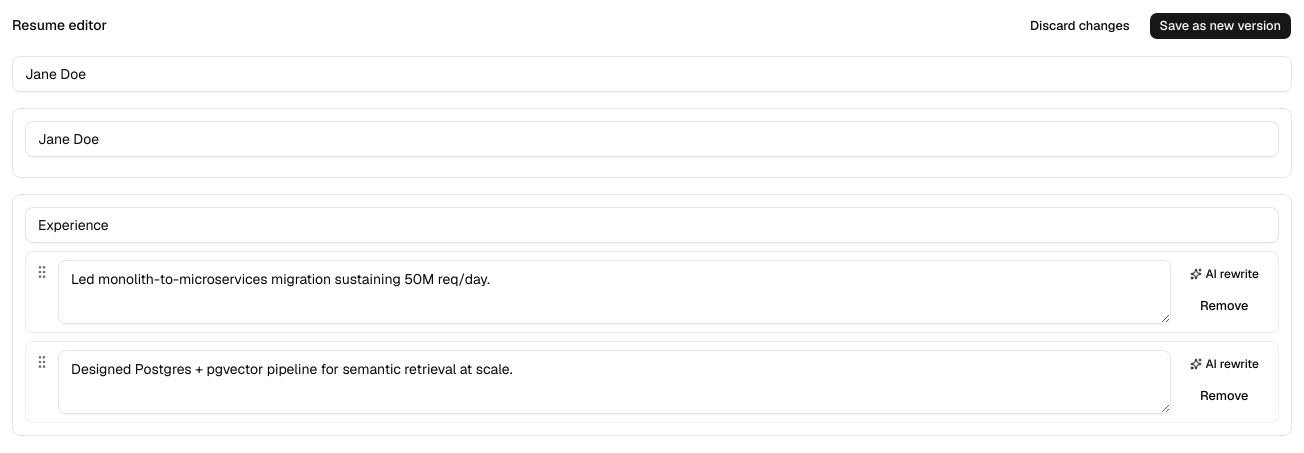
it: ResumeEditor › discard-changes reverts edited text back to the initial value
The image size is (1304, 453).
Replace the text in the text box named "Bullet s1-b0" with "Some local edit" at [614, 292], box [58, 260, 1170, 324]
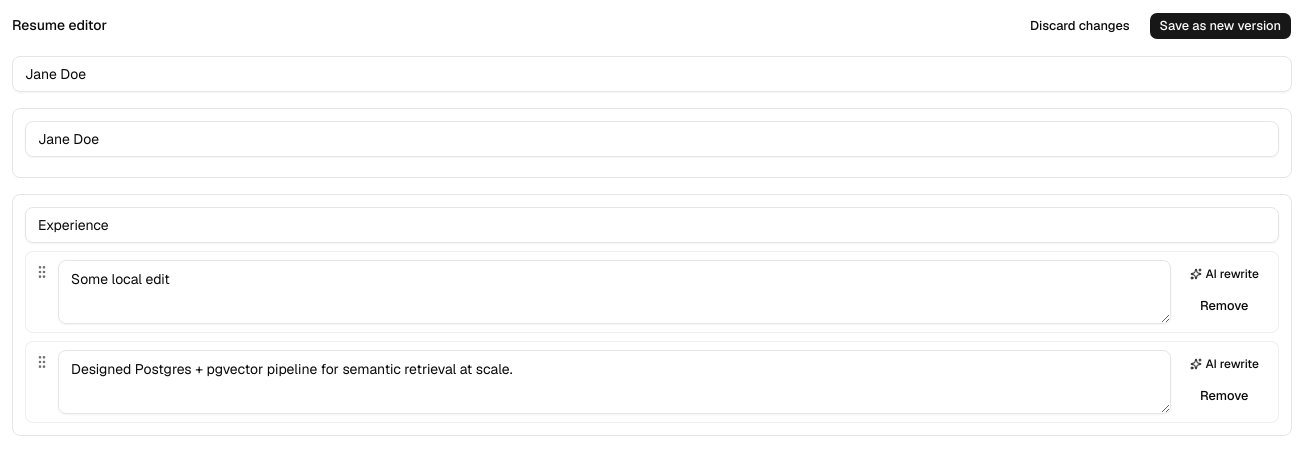
Click the button "Discard changes" at [1080, 26], box [1019, 12, 1141, 40]
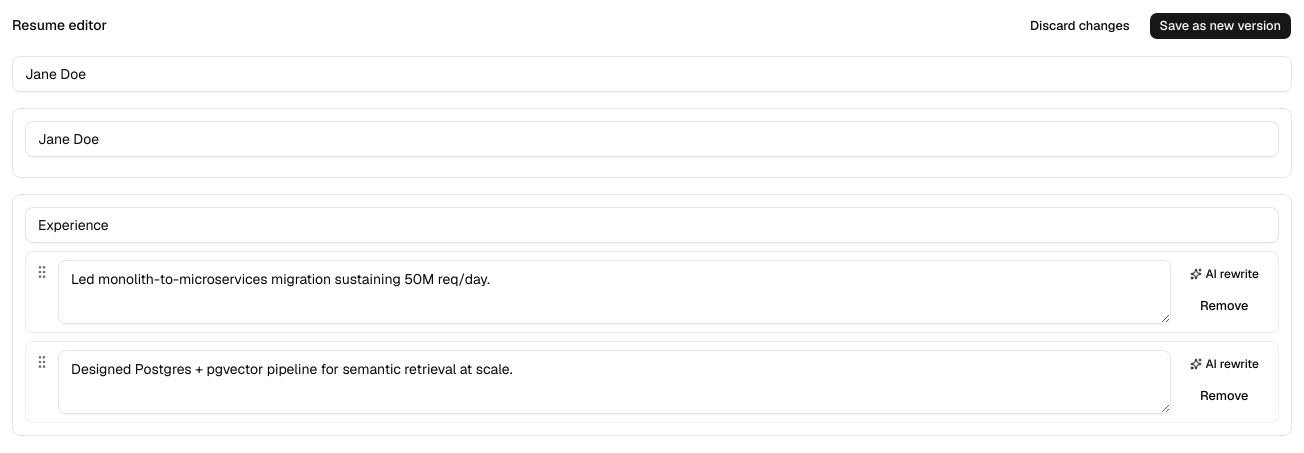
Expected: the text box named "Bullet s1-b0" holds "Led monolith-to-microservices migration sustaining 50M req/day.", [58, 260, 1170, 324]
